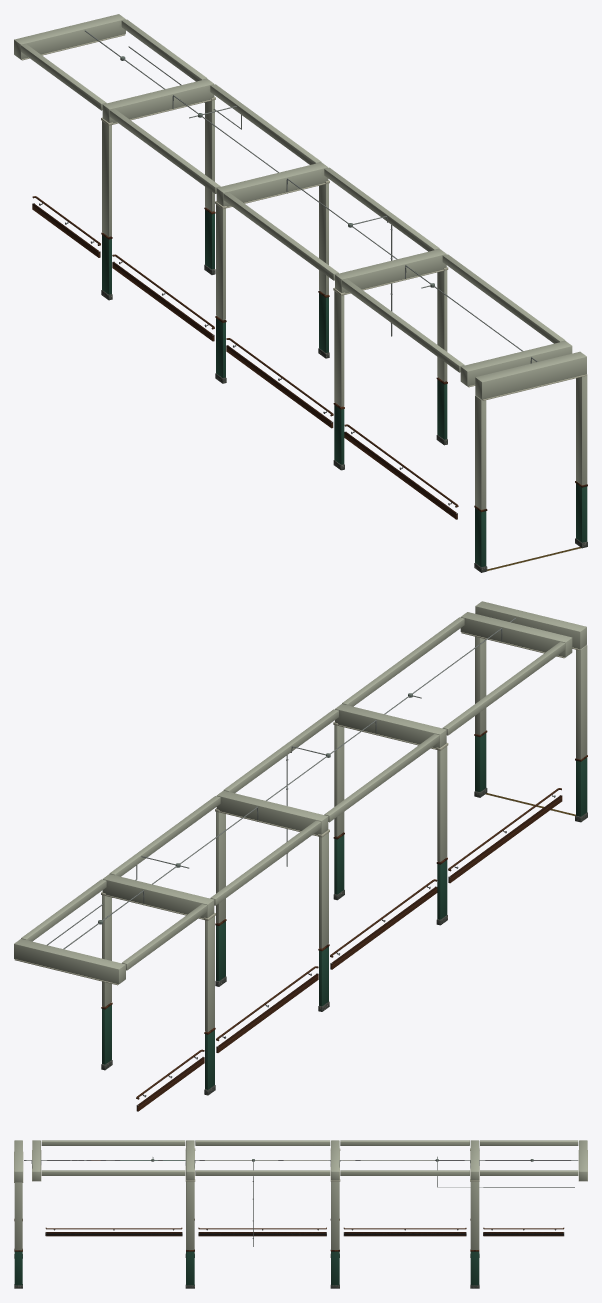
File: CTCC_STAFF_CorridorArch.fbx
The picture shows the model from 3 angles, top to bottom: view 1: azimuth 30°, elevation 25°; view 2: azimuth 150°, elevation 25°; view 3: azimuth 270°, elevation 25°; orthographic projection. The views are drawn at different scales.
Parts seen in each view (by area): view 1: CTCC_STAFF_CorridorArch; view 2: CTCC_STAFF_CorridorArch; view 3: CTCC_STAFF_CorridorArch.
Boxes of the visible parts, <box> form: CTCC_STAFF_CorridorArch: <box>14,14,587,572</box>; CTCC_STAFF_CorridorArch: <box>14,601,587,1111</box>; CTCC_STAFF_CorridorArch: <box>14,1140,587,1288</box>.
Bounding box in the file's own units: 2.12 × 3.6 × 16.04.
